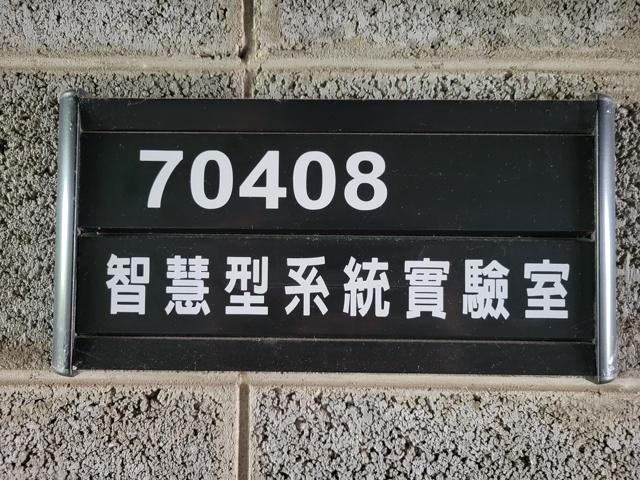doorplate: (39, 76, 630, 390)
